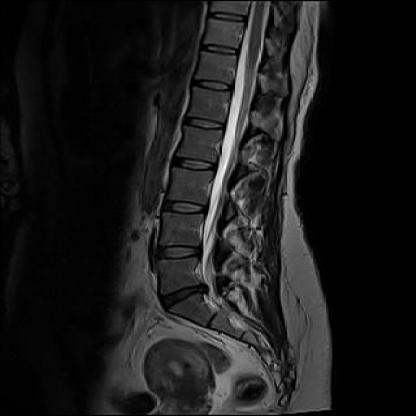Degenerative Disc Diseaserotation: (158, 285, 212, 304)
Disc Herniationrotation: (157, 285, 212, 304)
